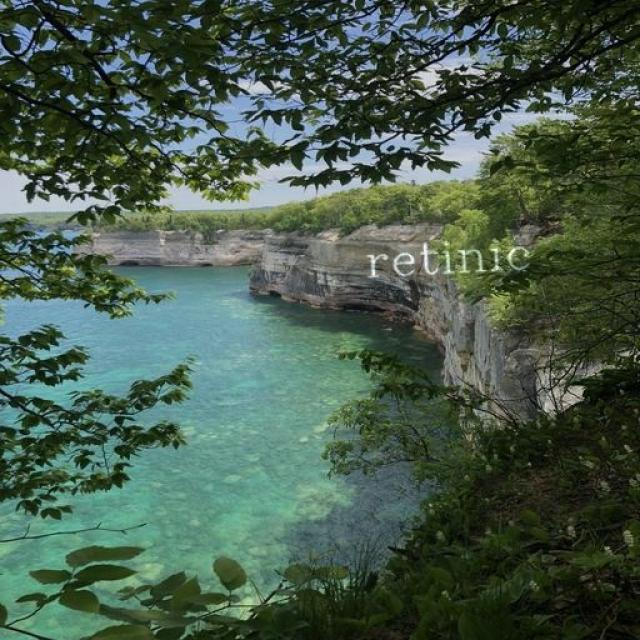watermark: (354, 233, 532, 284)
